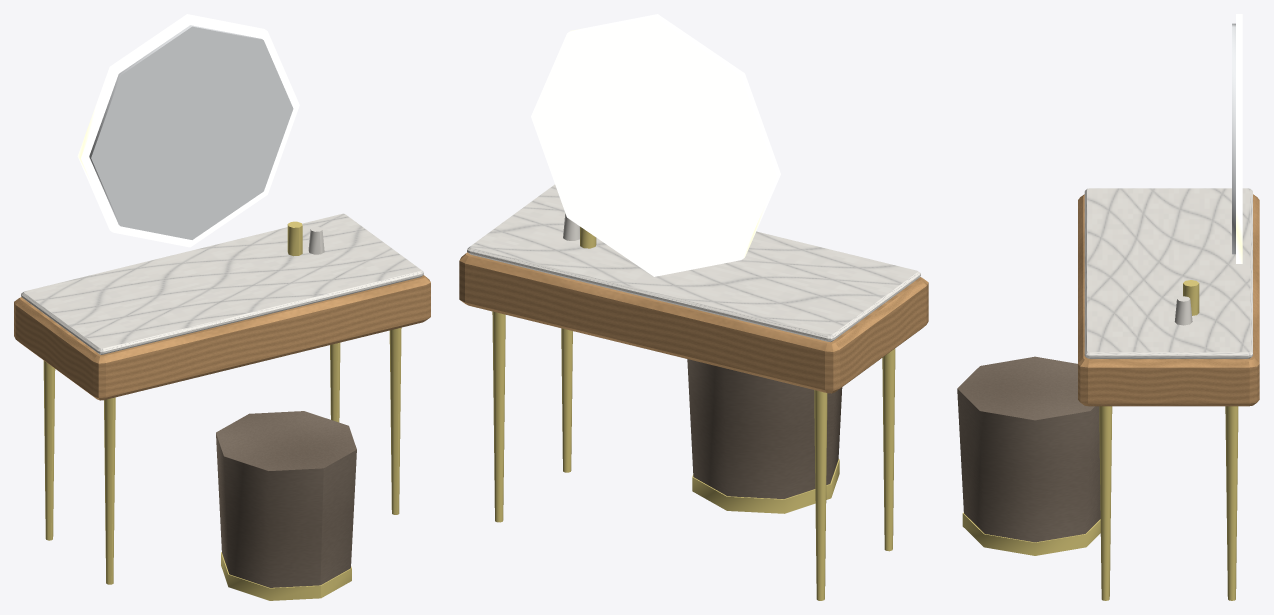
Rendered from dressing_table_mirror.glb.
3 renders of one model, left to right at view 1: azimuth 30°, elevation 25°; view 2: azimuth 150°, elevation 25°; view 3: azimuth 270°, elevation 25°, orthographic. The views are drawn at different scales.
Visible parts, largest first — view 1: dressing_table_mirror_mirrorSurface, dressing_table_mirror_marbleCarrara, dressing_table_mirror_fabricVelvet, dressing_table_mirror_woodOak, dressing_table_mirror_metalBrass, dressing_table_mirror_emissiveWarm; view 2: dressing_table_mirror_emissiveWarm, dressing_table_mirror_marbleCarrara, dressing_table_mirror_woodOak, dressing_table_mirror_fabricVelvet, dressing_table_mirror_metalBrass; view 3: dressing_table_mirror_marbleCarrara, dressing_table_mirror_fabricVelvet, dressing_table_mirror_woodOak, dressing_table_mirror_metalBrass, dressing_table_mirror_emissiveWarm, dressing_table_mirror_mirrorSurface, dressing_table_mirror_ceramicVase.
Boxes of the visible parts, box(x1,y1,x2,y2) form: dressing_table_mirror_mirrorSurface: box(89, 25, 293, 239); dressing_table_mirror_marbleCarrara: box(21, 213, 423, 354); dressing_table_mirror_fabricVelvet: box(216, 411, 356, 587); dressing_table_mirror_woodOak: box(14, 275, 430, 400); dressing_table_mirror_metalBrass: box(43, 221, 401, 600); dressing_table_mirror_emissiveWarm: box(77, 14, 299, 247); dressing_table_mirror_emissiveWarm: box(531, 14, 780, 276); dressing_table_mirror_marbleCarrara: box(467, 184, 920, 342); dressing_table_mirror_woodOak: box(459, 252, 928, 393); dressing_table_mirror_fabricVelvet: box(687, 359, 842, 498); dressing_table_mirror_metalBrass: box(492, 226, 895, 600); dressing_table_mirror_marbleCarrara: box(1084, 188, 1252, 358); dressing_table_mirror_fabricVelvet: box(957, 356, 1100, 542); dressing_table_mirror_woodOak: box(1078, 194, 1259, 406); dressing_table_mirror_metalBrass: box(962, 280, 1238, 600); dressing_table_mirror_emissiveWarm: box(1236, 14, 1242, 263); dressing_table_mirror_mirrorSurface: box(1232, 23, 1235, 254); dressing_table_mirror_ceramicVase: box(1174, 296, 1192, 325).
Size of what is drawn, in the model's own units: 1.1 by 1.52 by 0.82.
Materials: 7 (3 with a texture image).
